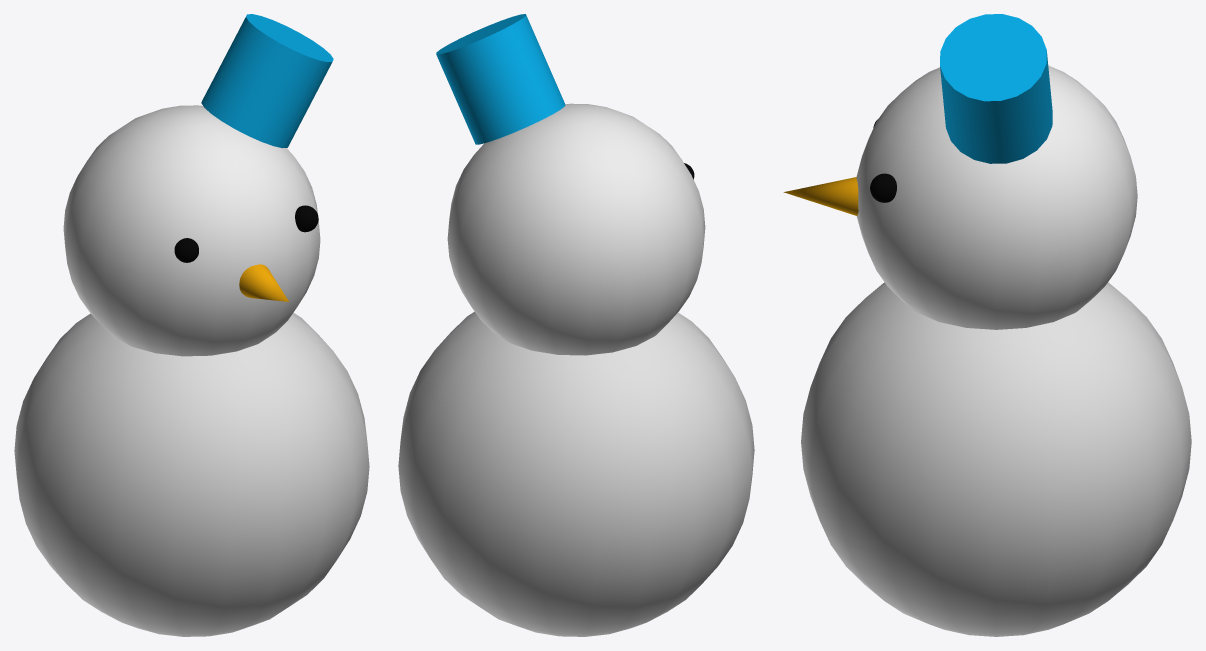
File: Daruma.fbx
3 views of the same model, side by side, from view 1: azimuth 30°, elevation 25°; view 2: azimuth 150°, elevation 25°; view 3: azimuth 270°, elevation 25° (orthographic). The views are drawn at different scales.
Parts seen in each view (by area): view 1: pSphere3; view 2: pSphere3; view 3: pSphere3.
Boxes of the visible parts, <box> form: pSphere3: <box>14,14,369,636</box>; pSphere3: <box>398,14,754,636</box>; pSphere3: <box>783,14,1191,636</box>.
Bounding box in the file's own units: 7.23 × 13.01 × 7.56.
